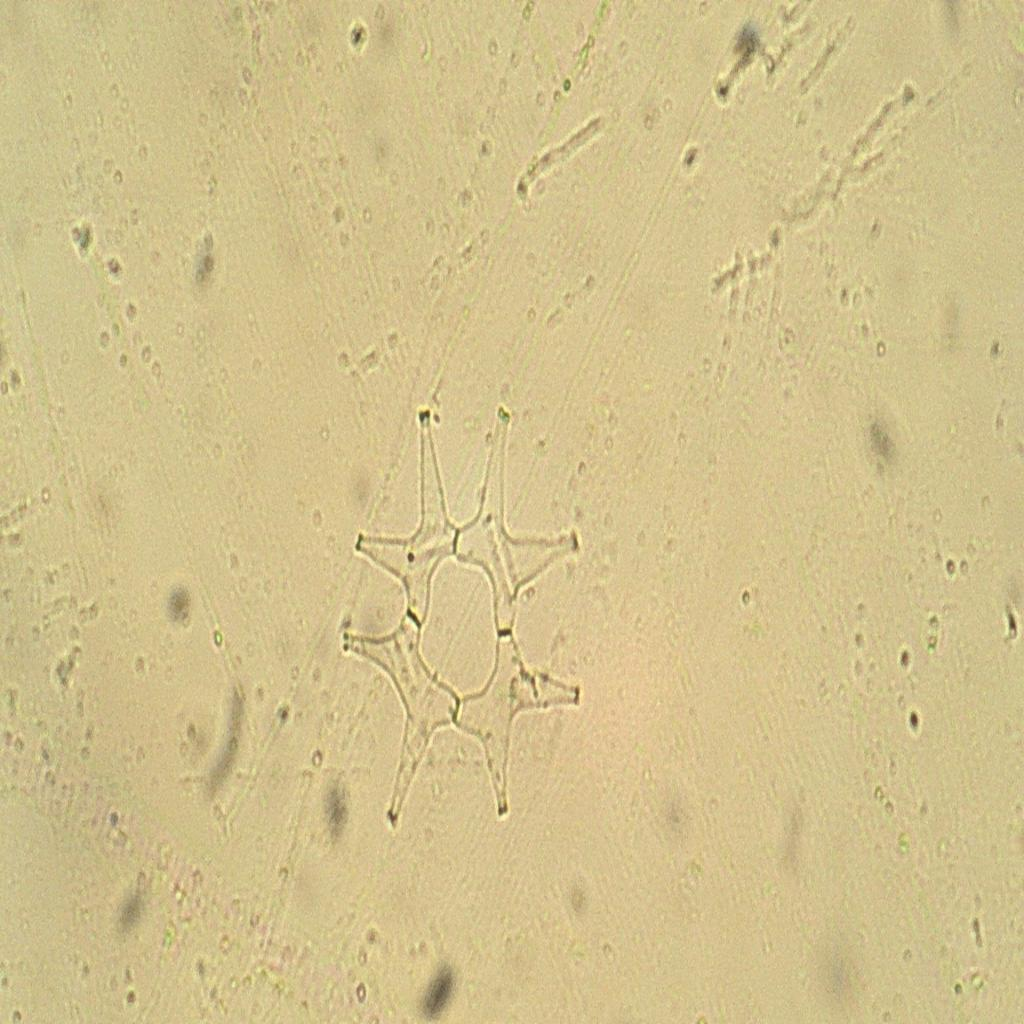Pediastrum_75TH: (318, 379, 604, 866)
